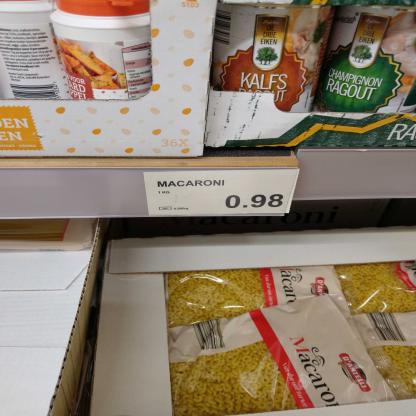prtg: (144, 171, 299, 217)
